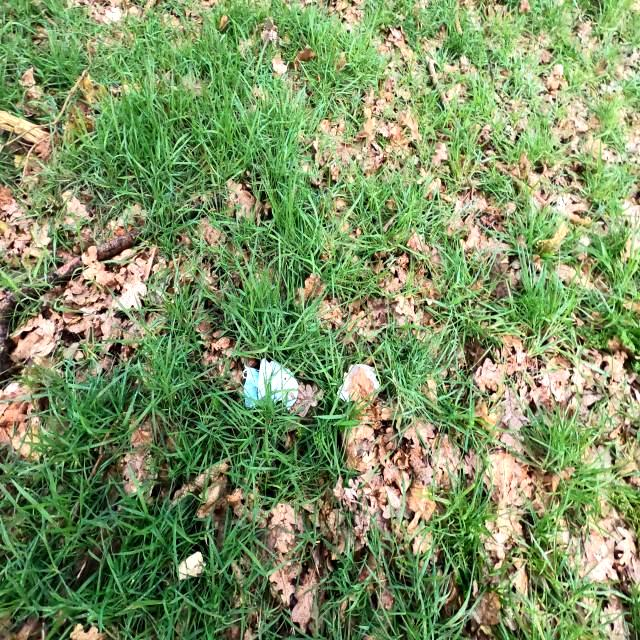Mask: (241, 355, 301, 413)
